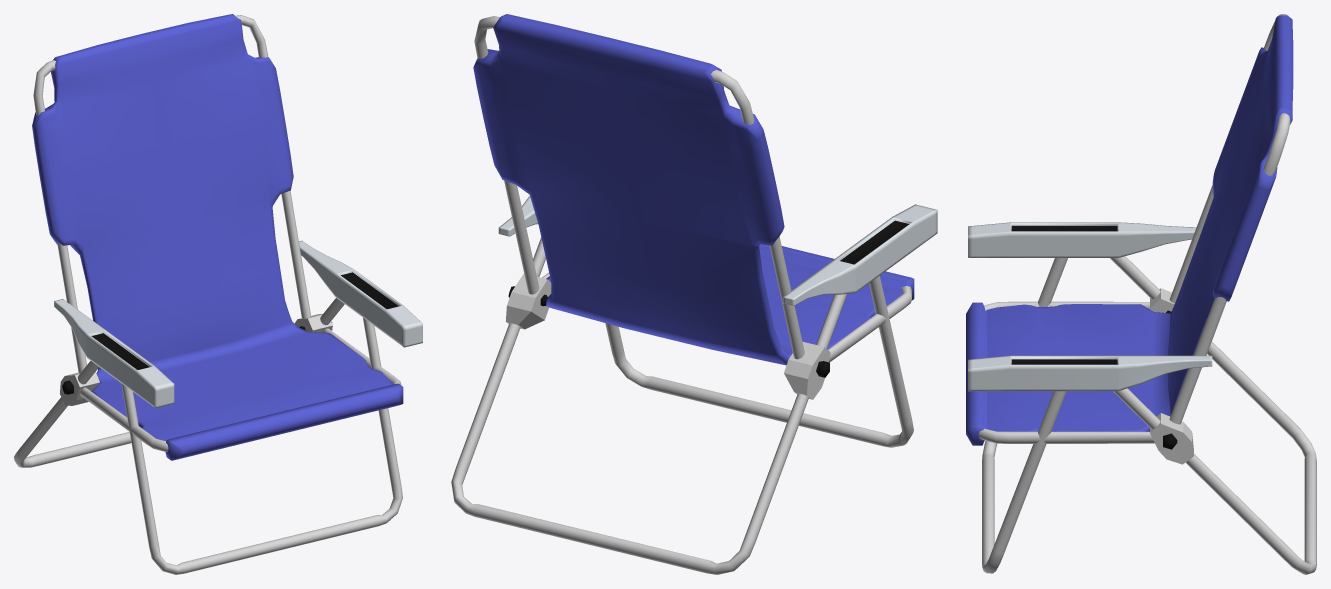
The model's file is Beachchair(Foldable).fbx.
The picture shows the model from 3 angles, left to right: view 1: azimuth 30°, elevation 25°; view 2: azimuth 150°, elevation 25°; view 3: azimuth 270°, elevation 25°; orthographic projection. The views are drawn at different scales.
Parts seen in each view (by area): view 1: BeachChair_LOD0; view 2: BeachChair_LOD0; view 3: BeachChair_LOD0.
Part boxes in pixels (bbox=[...]): BeachChair_LOD0: bbox=[14, 14, 422, 574]; BeachChair_LOD0: bbox=[451, 14, 937, 574]; BeachChair_LOD0: bbox=[966, 14, 1316, 574].
Size of what is drawn, in the model's own units: 89.01 by 131 by 91.38.
